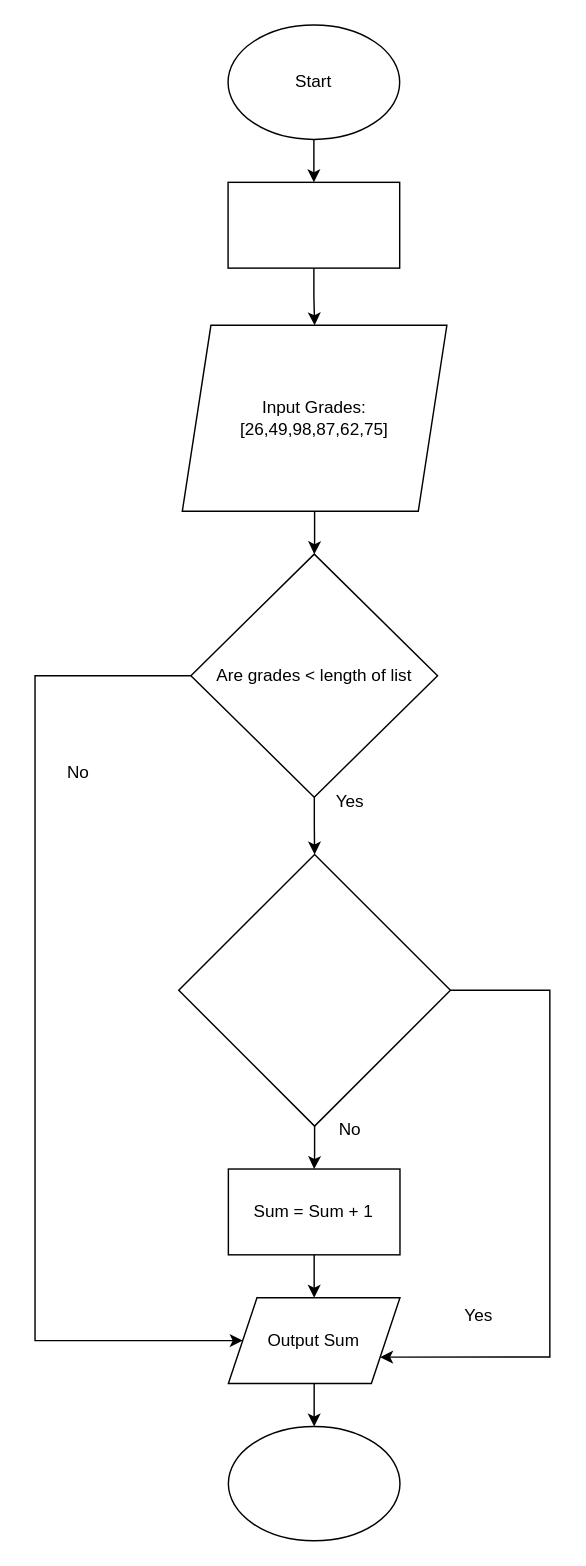
Image size: 586x1566. Some labels were removed from this diagram. Each missing label, with the centre of its shape:
"Are grades divisible by 2?" goes at point 313,989.
"Stop" goes at point 313,1483.
"Sum = 0" goes at point 313,224.
